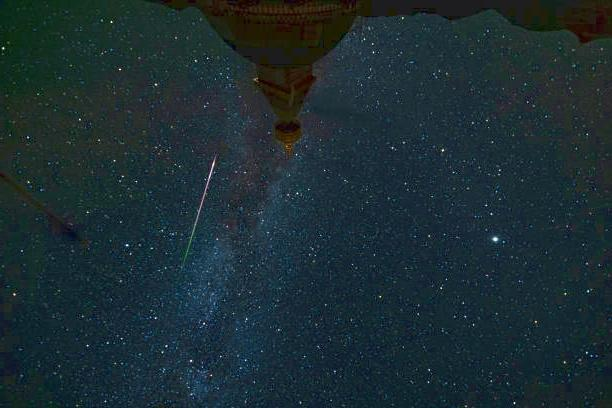meteorite: (185, 153, 223, 244)
